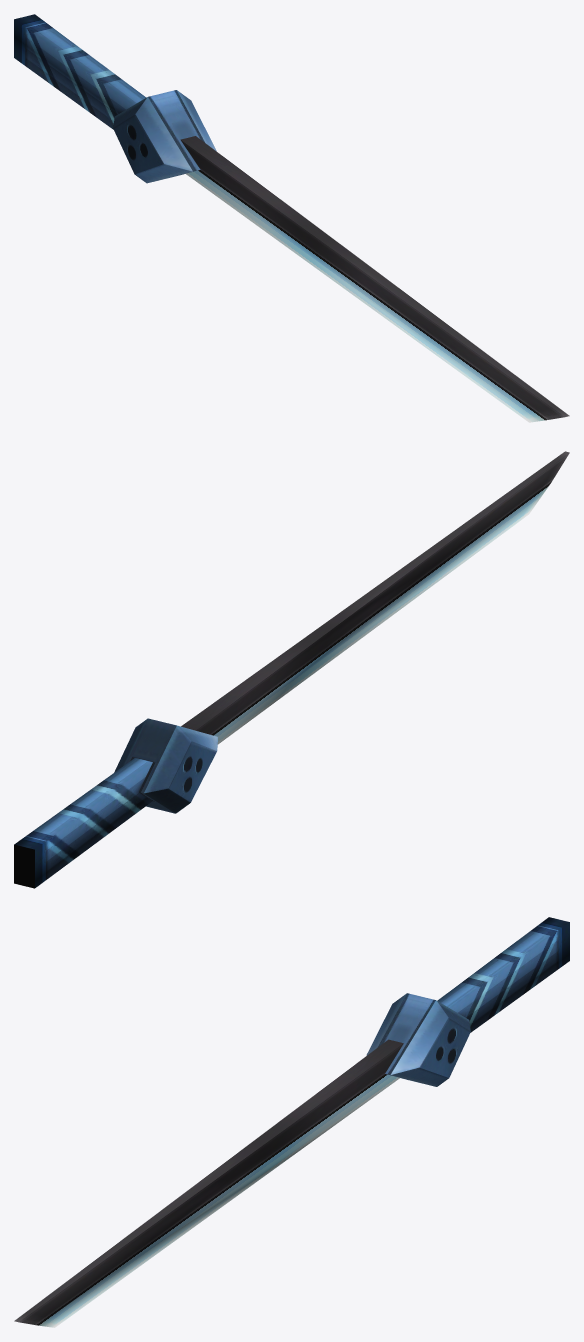
Rendered from Sarutobi Sword.obj.
3 renders of one model, top to bottom at view 1: azimuth 30°, elevation 25°; view 2: azimuth 150°, elevation 25°; view 3: azimuth 330°, elevation 25°, orthographic.
Parts seen in each view (by area): view 1: Weapon_015; view 2: Weapon_015; view 3: Weapon_015.
Boxes of the visible parts, box(x1,y1,x2,y2) form: Weapon_015: box(14, 14, 569, 422); Weapon_015: box(14, 451, 569, 888); Weapon_015: box(14, 917, 569, 1327).
Bounding box in the file's own units: 0.2 × 0.2984 × 3.36.
1 material, 1 textured.
